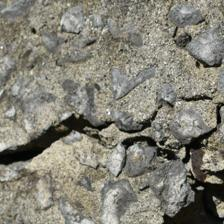Crack: (1, 52, 161, 115)
